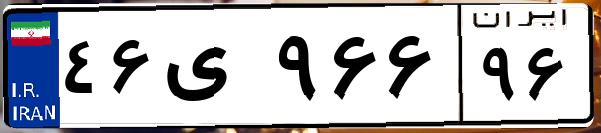4: (57, 26, 110, 100)
6: (385, 28, 445, 110), (330, 28, 385, 110), (525, 38, 570, 115), (110, 28, 158, 98)
9: (270, 28, 330, 110), (475, 38, 525, 113)
ی: (158, 20, 270, 120)
